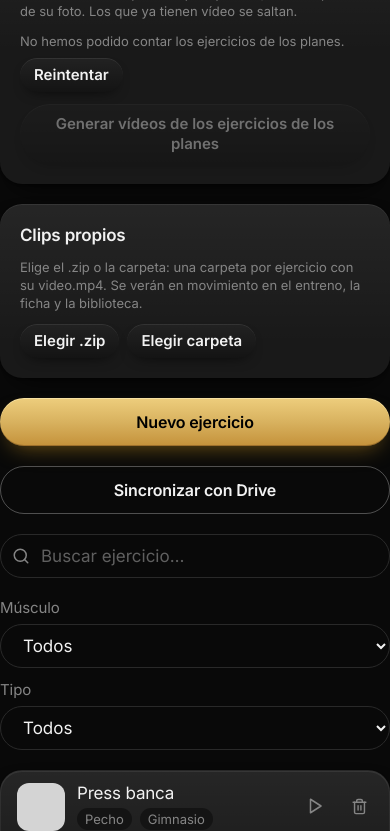
Test case: ExerciseLibrary › opens an empty editor from the new exercise button
(page scrolled)
Check: the text "Press banca" is shown, box [77, 783, 174, 803]
Click the button "Nuevo ejercicio". click: (195, 422)
box: [0, 398, 389, 446]
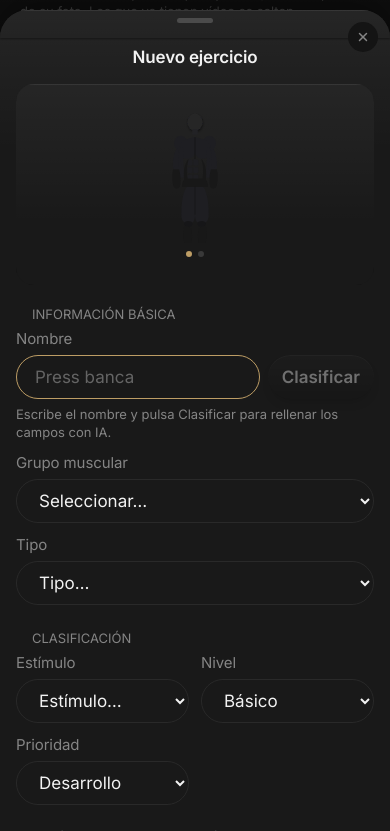
Check: the heading "Nuevo ejercicio" is shown, box [133, 47, 257, 67]
Check: the button with aria-label "Clasificar con IA" reads "Clasificar", box [268, 355, 374, 399]
Check: the button with aria-label "Clasificar con IA" is disabled, box [268, 355, 374, 399]
